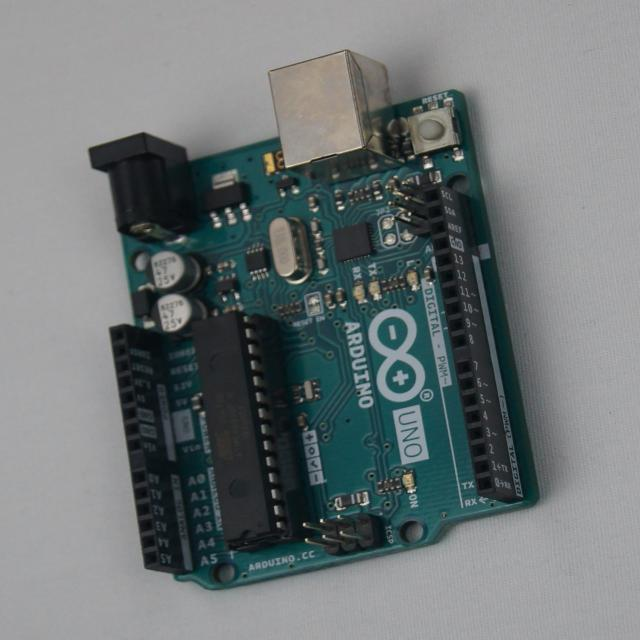Arduino Uno -Green-: (90, 52, 539, 588)
